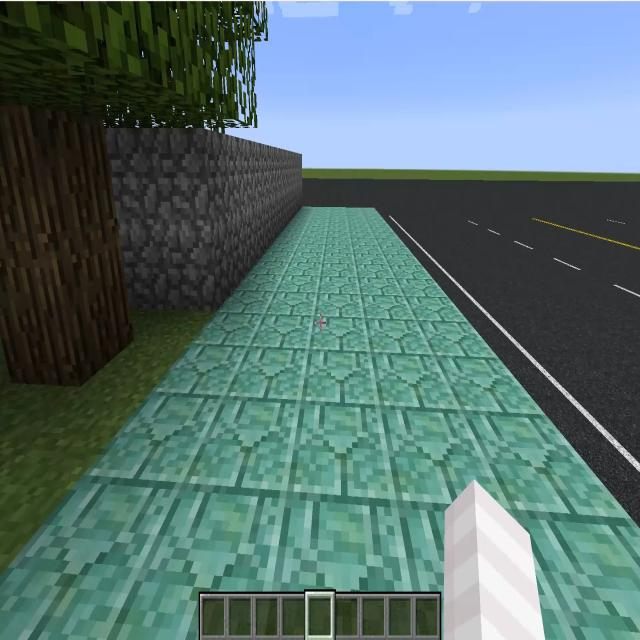road: (303, 181, 640, 526)
sidewalk: (0, 208, 639, 639)
